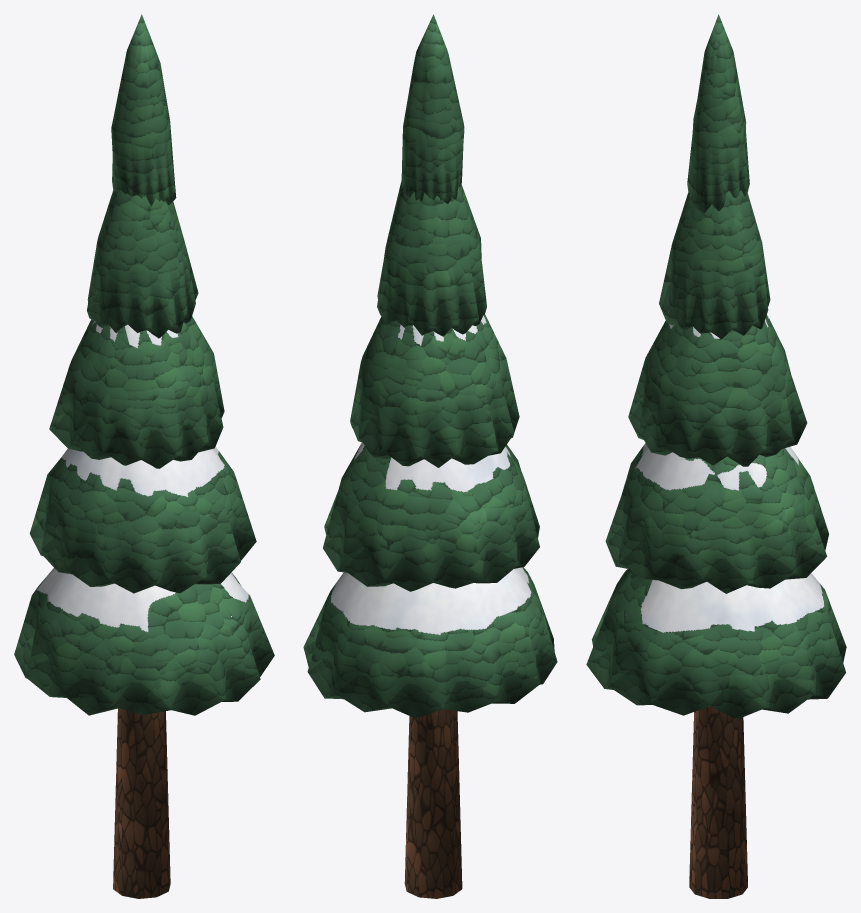
The model's file is pine_a.glb.
3 renders of one model, left to right at view 1: azimuth 30°, elevation 25°; view 2: azimuth 150°, elevation 25°; view 3: azimuth 270°, elevation 25°, orthographic.
Visible parts, largest first — view 1: crown_leaf, Trunk; view 2: crown_leaf, Trunk; view 3: crown_leaf, Trunk.
Part boxes in pixels (bbox=[...]): crown_leaf: bbox=[14, 14, 274, 715]; Trunk: bbox=[113, 708, 170, 898]; crown_leaf: bbox=[303, 14, 557, 718]; Trunk: bbox=[404, 709, 462, 898]; crown_leaf: bbox=[586, 14, 846, 719]; Trunk: bbox=[689, 706, 747, 898].
Size of the model in its own units: 1.44 by 5.56 by 1.5.
Materials: 1 (1 with a texture image).
